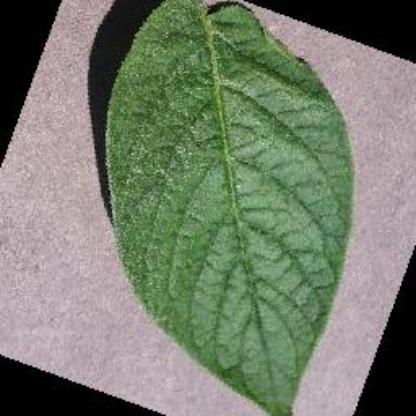Healthy-plant: (106, 0, 372, 414)
